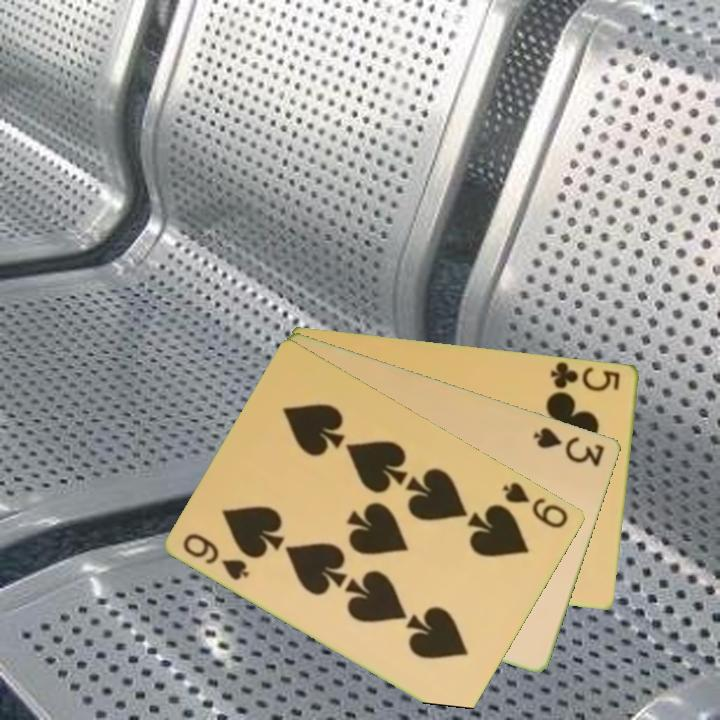3s: (530, 423, 608, 469)
5c: (548, 358, 624, 394)
9s: (180, 529, 253, 584), (499, 478, 572, 532)
